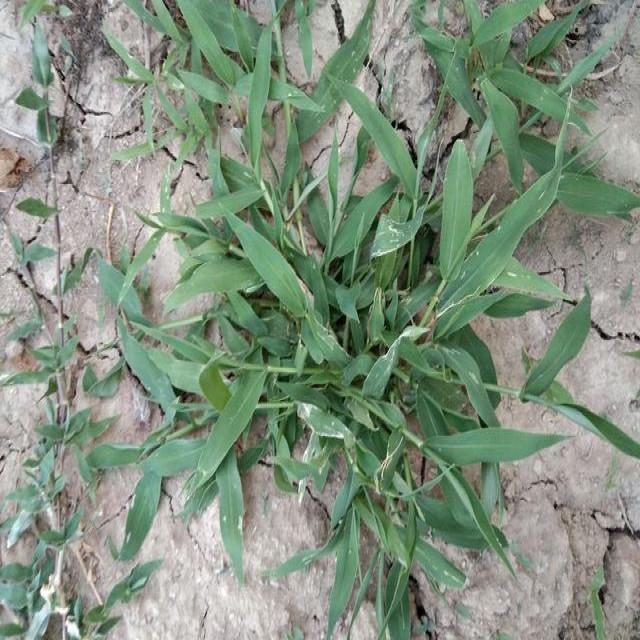weed: (167, 169, 640, 560), (20, 245, 153, 640), (442, 1, 603, 210), (178, 5, 315, 160), (21, 11, 103, 252)
